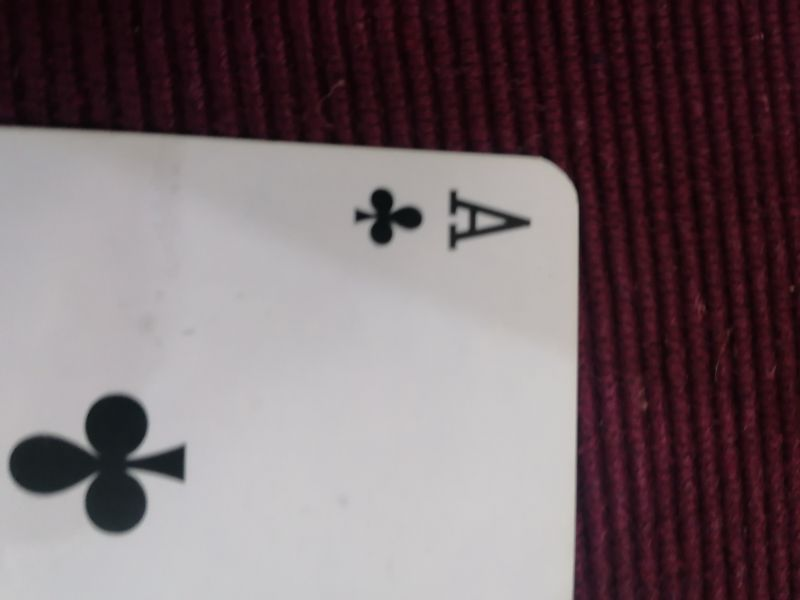Ac: (326, 169, 536, 258)
